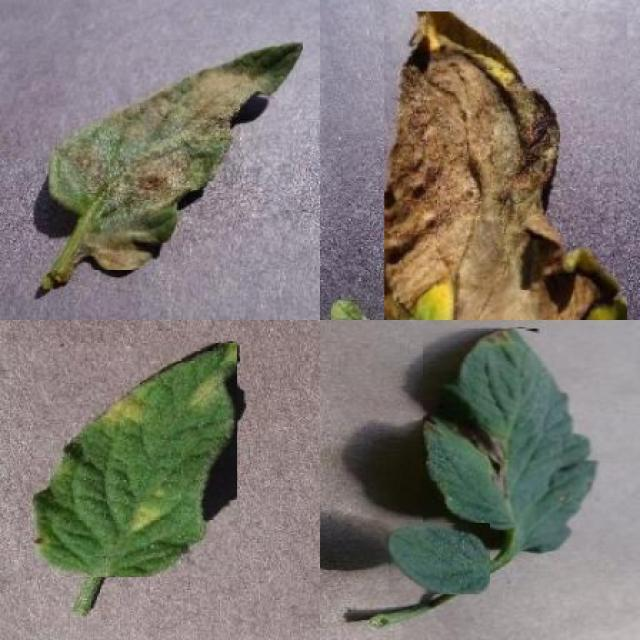Early Blight: (423, 328, 600, 552)
Healthy: (389, 523, 490, 594)
Late Blight: (385, 11, 628, 320), (49, 40, 302, 270)
Leaf Mold: (32, 342, 238, 578)
